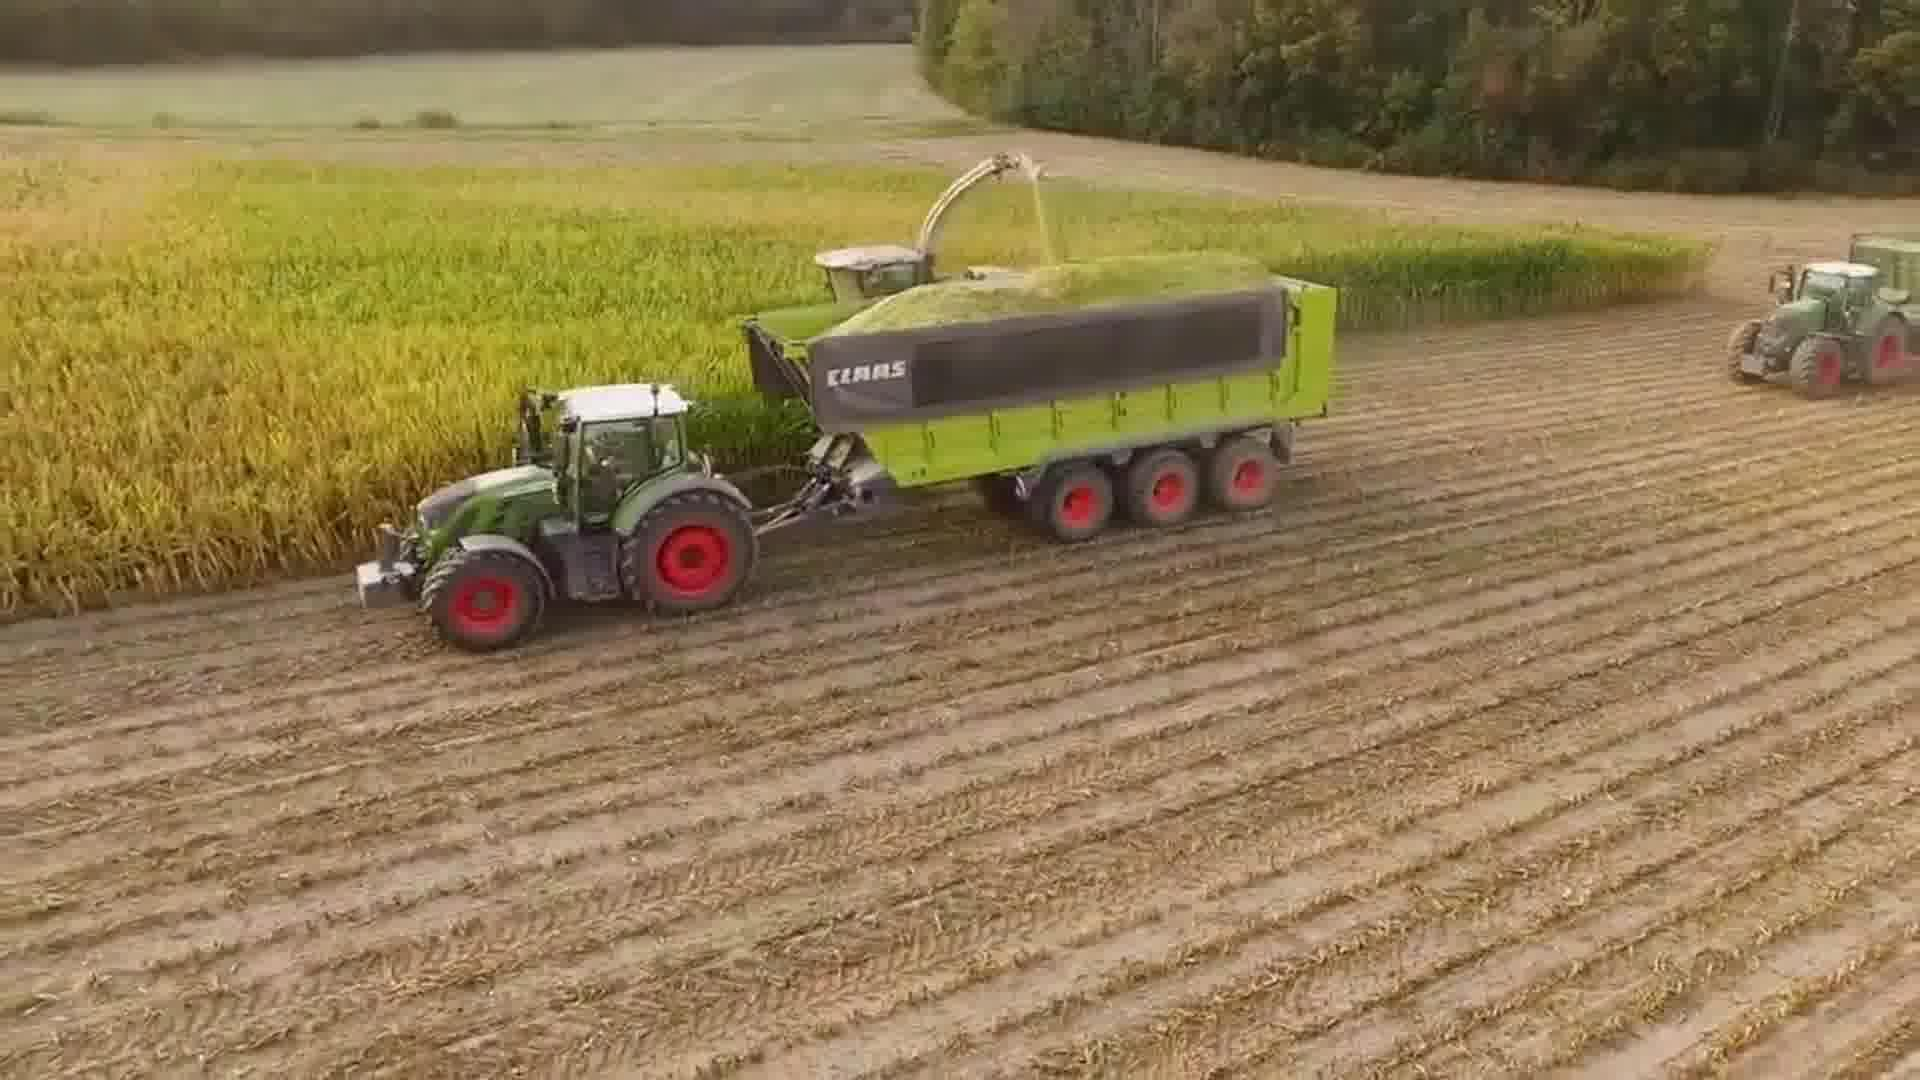combine harvester: (810, 150, 1054, 304)
tractor: (347, 373, 770, 663), (1719, 250, 1917, 400)
trailer: (737, 244, 1349, 556), (1850, 221, 1920, 301)
